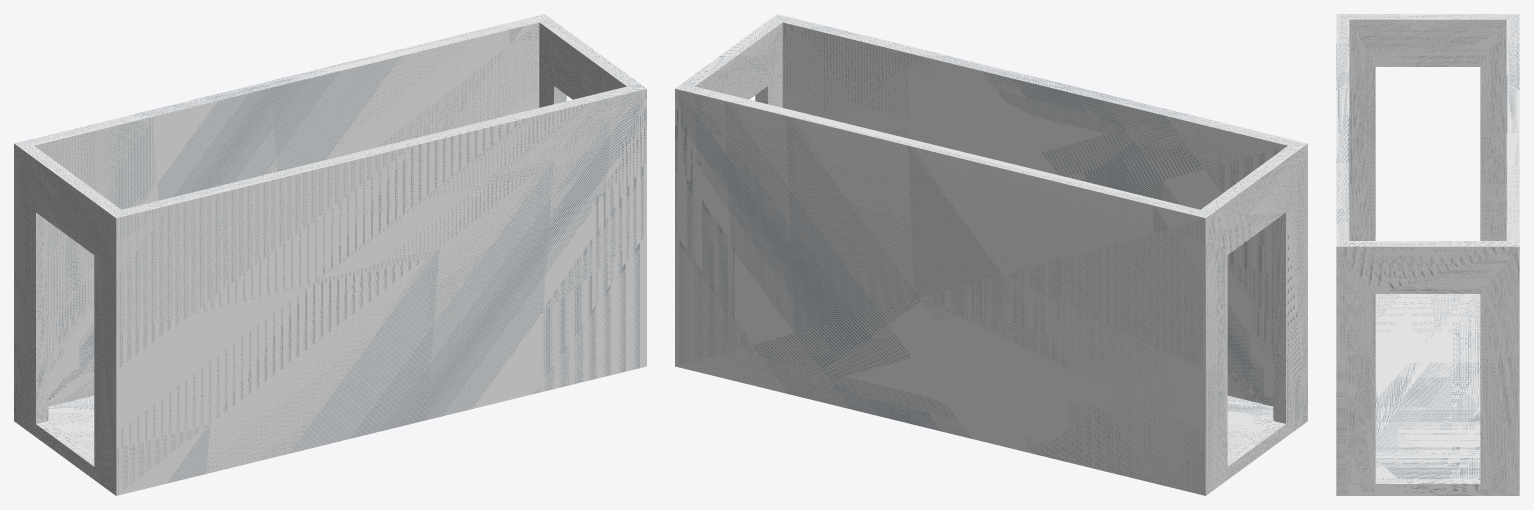
The model's file is SHT_HAL.fbx.
3 views of the same model, side by side, from view 1: azimuth 30°, elevation 25°; view 2: azimuth 150°, elevation 25°; view 3: azimuth 270°, elevation 25° (orthographic). The views are drawn at different scales.
Visible parts, largest first — view 1: Model; view 2: Model; view 3: Model.
Boxes of the visible parts, x1,y1,x2,y2 form: Model: [14, 14, 646, 495]; Model: [675, 14, 1307, 495]; Model: [1336, 14, 1519, 495].
Bounding box in the file's own units: 21 × 10.5 × 7.
